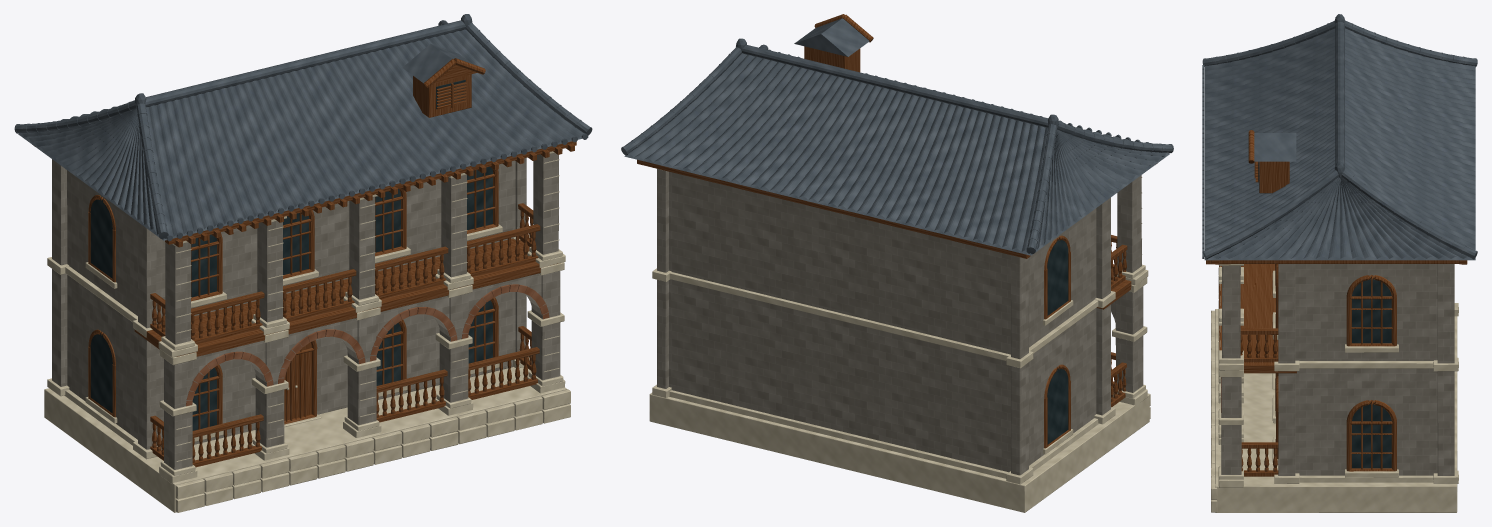
Rendered from zunyi-object.glb.
3 renders of one model, left to right at view 1: azimuth 30°, elevation 25°; view 2: azimuth 150°, elevation 25°; view 3: azimuth 270°, elevation 25°, orthographic. The views are drawn at different scales.
Visible parts, largest first — view 1: zunyi-object-complete-environment; view 2: zunyi-object-complete-environment; view 3: zunyi-object-complete-environment.
Boxes of the visible parts, <box> form: zunyi-object-complete-environment: <box>14,14,592,512</box>; zunyi-object-complete-environment: <box>621,14,1173,512</box>; zunyi-object-complete-environment: <box>1202,14,1477,512</box>.
Size of the model in its own units: 1 by 0.8097 by 0.5933.
6 materials, 6 textured.
